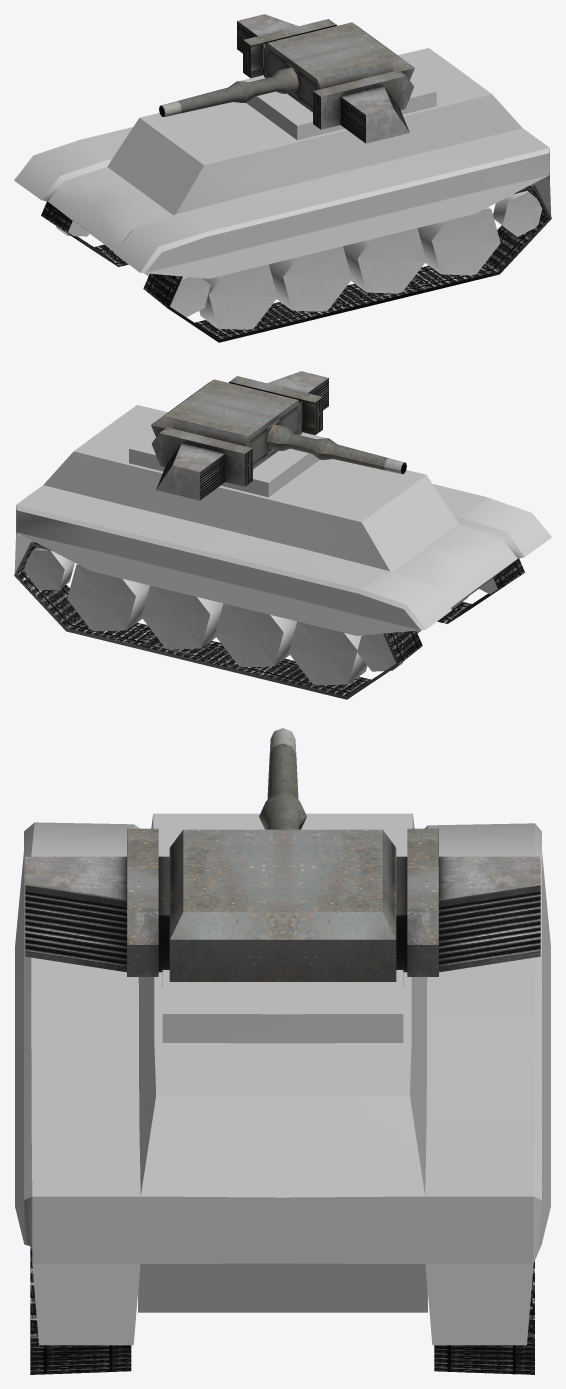
Rendered from Tank6_lod2.FBX.
The picture shows the model from 3 angles, top to bottom: view 1: azimuth 30°, elevation 25°; view 2: azimuth 150°, elevation 25°; view 3: azimuth 270°, elevation 25°; orthographic projection. The views are drawn at different scales.
Visible parts, largest first — view 1: tank18, tank6_gun02, Object44, wheel230, wheel240, wheel238, wheel231, wheel233, wheel237; view 2: tank18, tank6_gun02, Object44, wheel235, wheel234, wheel239, wheel232, wheel236, wheel229; view 3: tank18, tank6_gun02, Object44.
Part boxes in pixels (box(x1,y1,x2,y2)): tank18: box(14, 48, 551, 278); tank6_gun02: box(159, 14, 414, 143); Object44: box(41, 184, 551, 342); wheel230: box(417, 207, 500, 275); wheel240: box(343, 228, 426, 293); wheel238: box(269, 246, 351, 311); wheel231: box(199, 264, 277, 329); wheel233: box(493, 191, 542, 236); wheel237: box(170, 276, 210, 317); tank18: box(14, 405, 551, 635); tank6_gun02: box(151, 371, 406, 500); Object44: box(14, 541, 524, 699); wheel235: box(67, 564, 149, 631); wheel234: box(215, 603, 296, 667); wheel239: box(141, 585, 223, 649); wheel232: box(288, 621, 367, 685); wheel236: box(24, 547, 74, 590); wheel229: box(357, 633, 402, 671); tank18: box(15, 813, 550, 1345); tank6_gun02: box(25, 728, 540, 981); Object44: box(30, 1246, 534, 1374).
Bounding box in the file's own units: 5.81 × 2.72 × 3.27.
